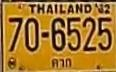0: (24, 17, 38, 51)
2: (82, 16, 95, 50)
5: (66, 16, 80, 50), (97, 16, 111, 50)
6: (52, 17, 64, 50)
7: (8, 17, 22, 51)
TAK: (49, 56, 72, 69)
